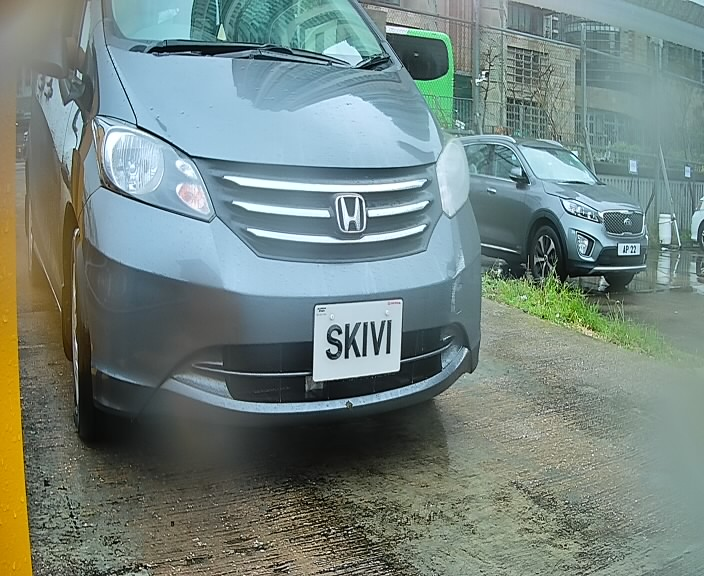Car: (2, 2, 528, 481)
License Plate: (309, 297, 406, 381)
